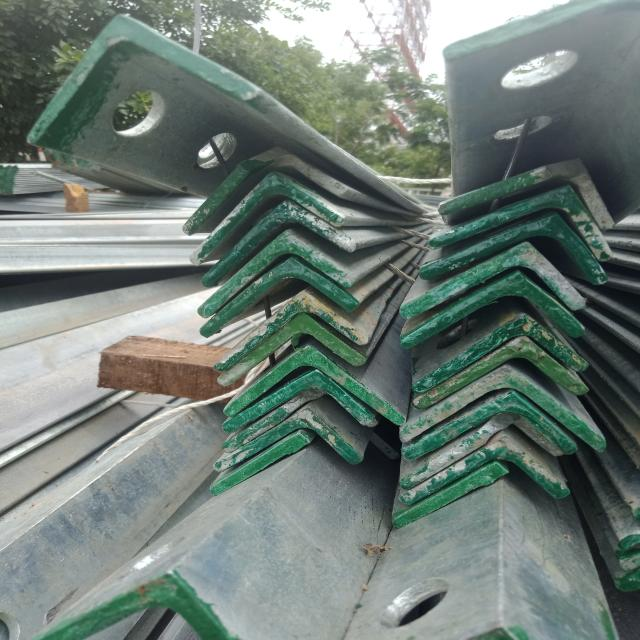metal-angles: (27, 14, 262, 143), (400, 363, 607, 452), (182, 146, 350, 237), (399, 240, 585, 320), (189, 171, 345, 266), (401, 270, 585, 350), (427, 184, 614, 262), (223, 346, 406, 425), (411, 312, 589, 393), (198, 229, 356, 319), (419, 211, 609, 285), (40, 570, 236, 640), (201, 199, 356, 287), (410, 335, 590, 408), (213, 289, 371, 372), (199, 257, 360, 338), (437, 159, 615, 229), (402, 390, 578, 460), (399, 435, 570, 504), (217, 312, 366, 386), (221, 368, 377, 433), (212, 407, 363, 473)
